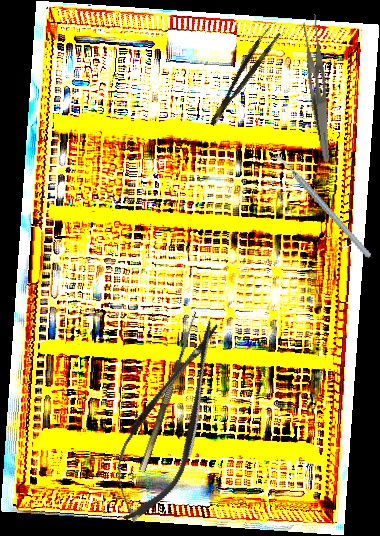Chopper: (269, 134, 372, 278)
Dressing Forceps: (294, 13, 347, 163)
Hook Surgical: (130, 307, 200, 473)
Micro Scissor: (94, 308, 245, 534)
Tissue Forceps: (201, 24, 282, 128)
